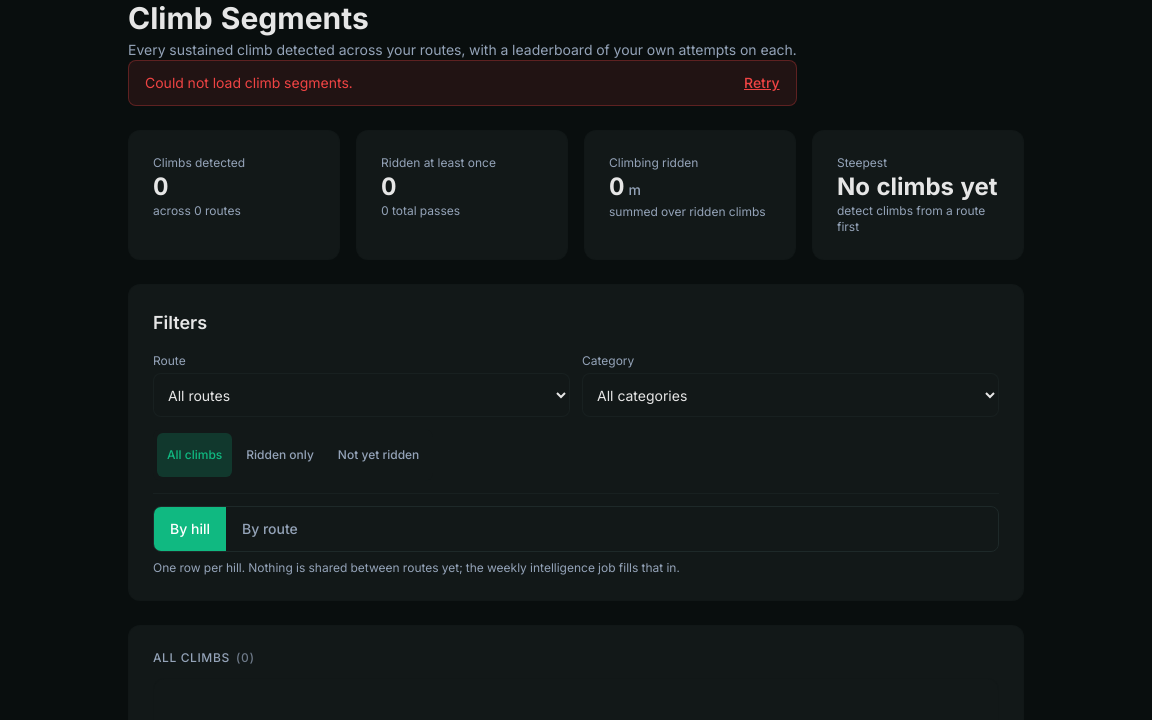
segments page › shows the error surface and can retry
The width and height of the screenshot is (1152, 720).
Expected: the message "Could not load climb segments. Retry" is shown, [128,60,797,106]
Click the button "Retry".
click(762, 83)  # box [744,73,780,93]
(page scrolled)
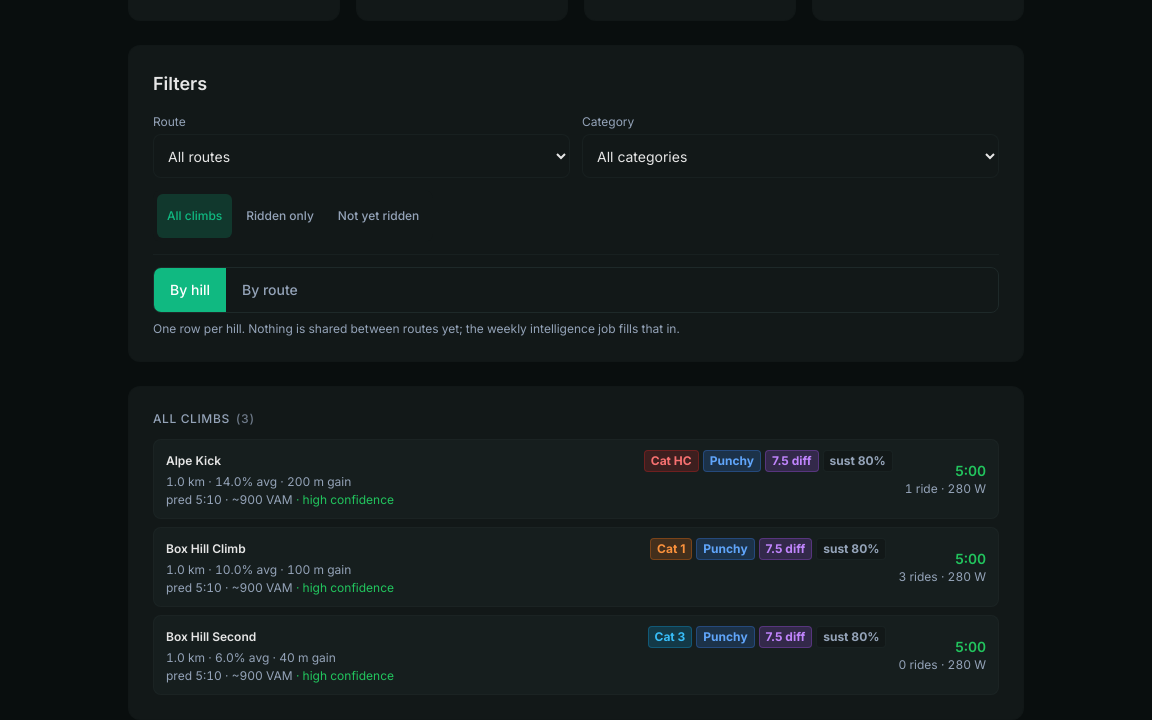
Now the text "Box Hill Climb" is shown, box [166,541,246,556]
